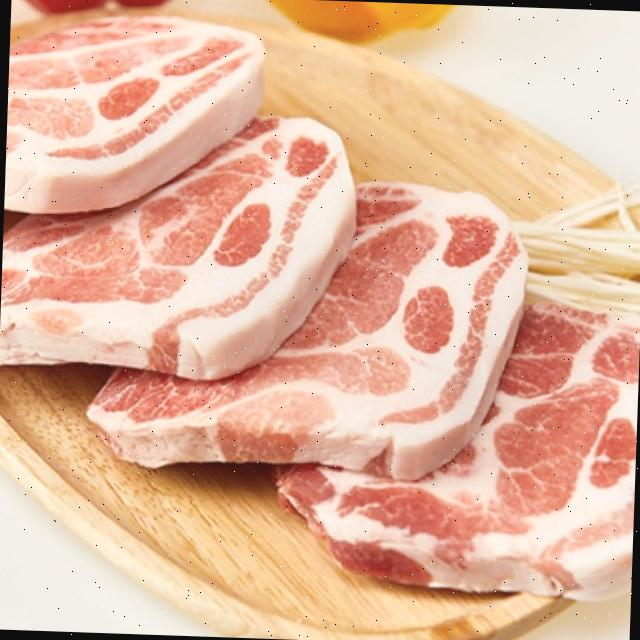meat: (0, 35, 640, 579)
